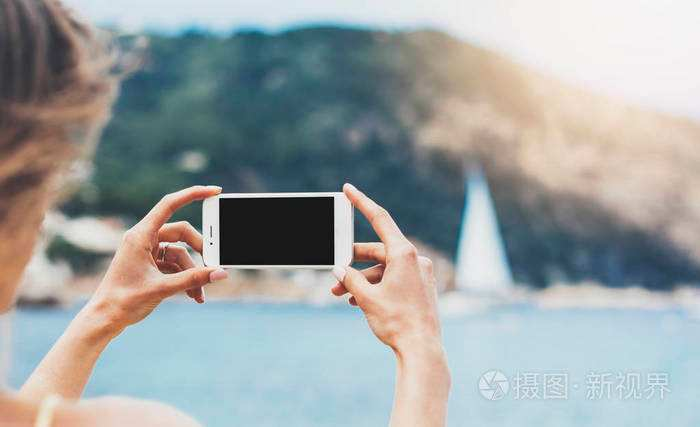taking photos: (93, 177, 456, 370)
